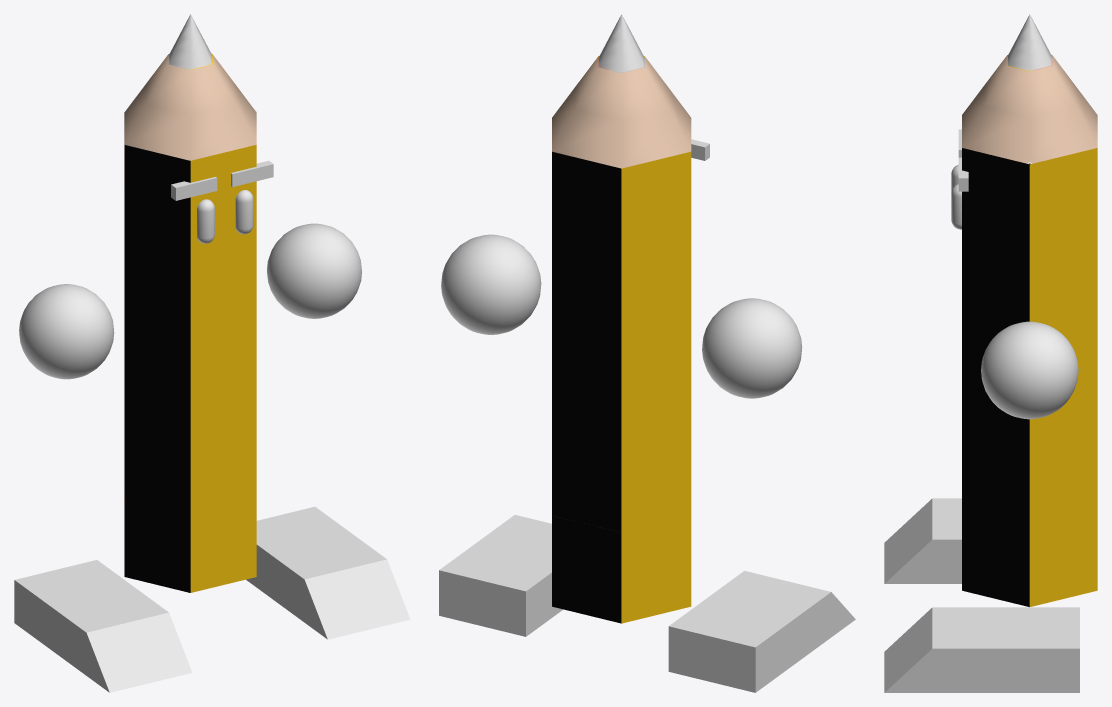
The model's file is 鉛筆人2.fbx.
The picture shows the model from 3 angles, left to right: view 1: azimuth 30°, elevation 25°; view 2: azimuth 150°, elevation 25°; view 3: azimuth 270°, elevation 25°; orthographic projection. The views are drawn at different scales.
Visible parts, largest first — view 1: Cylinder001, Box002, Box001, Sphere002, Sphere001, Cone001, Capsule002, Box003, Capsule001, Box004; view 2: Cylinder001, Box002, Box001, Sphere001, Sphere002, Cone001; view 3: Cylinder001, Box001, Sphere002, Box002, Cone001, Capsule002.
Part boxes in pixels (x1,y1,x2,y2): Cylinder001: [124, 54, 256, 592]; Box002: [14, 560, 192, 692]; Box001: [246, 506, 410, 639]; Sphere002: [267, 223, 361, 318]; Sphere001: [19, 284, 114, 379]; Cone001: [169, 14, 211, 69]; Capsule002: [235, 190, 253, 234]; Box003: [171, 177, 217, 200]; Capsule001: [197, 199, 214, 243]; Box004: [231, 160, 273, 186]; Cylinder001: [552, 56, 691, 623]; Box002: [668, 571, 855, 692]; Box001: [439, 515, 563, 636]; Sphere001: [702, 298, 802, 398]; Sphere002: [441, 234, 541, 334]; Cone001: [599, 14, 643, 72]; Cylinder001: [962, 55, 1097, 607]; Box001: [884, 607, 1079, 692]; Sphere002: [981, 321, 1078, 419]; Box002: [884, 498, 961, 583]; Cone001: [1008, 14, 1051, 70]; Capsule002: [951, 184, 961, 229].
Bounding box in the file's own units: 40 × 68.25 × 21.8.
Materials: 1 (1 with a texture image).
